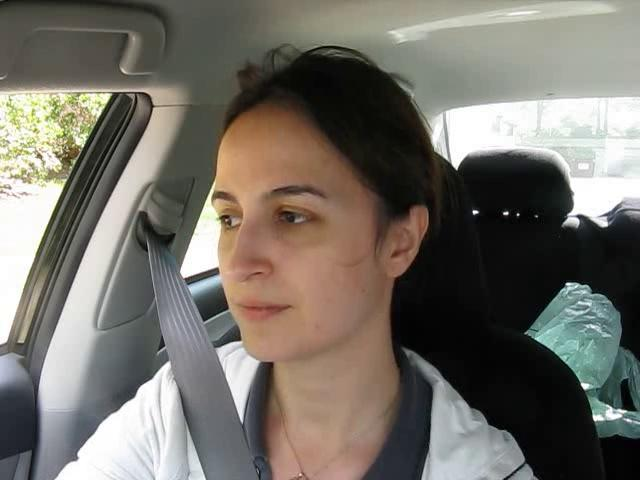no_yawn: (225, 290, 303, 330)
open_eyeL: (215, 204, 246, 234)
open_eyeR: (267, 196, 334, 237)
